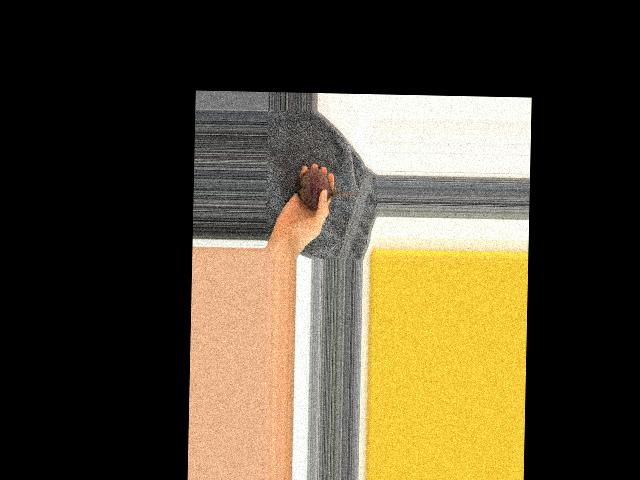beet: (294, 167, 361, 209)
